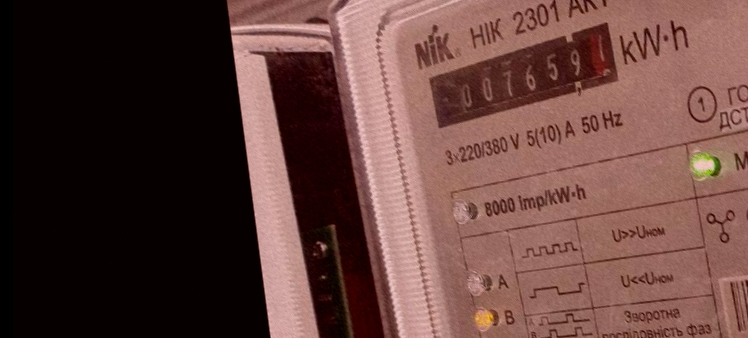0: (479, 73, 496, 101), (459, 78, 475, 107)
1: (593, 31, 609, 63)
5: (543, 49, 562, 83)
6: (522, 59, 539, 92)
7: (500, 64, 518, 98)
9: (566, 43, 586, 79)
screen: (410, 12, 642, 134)
